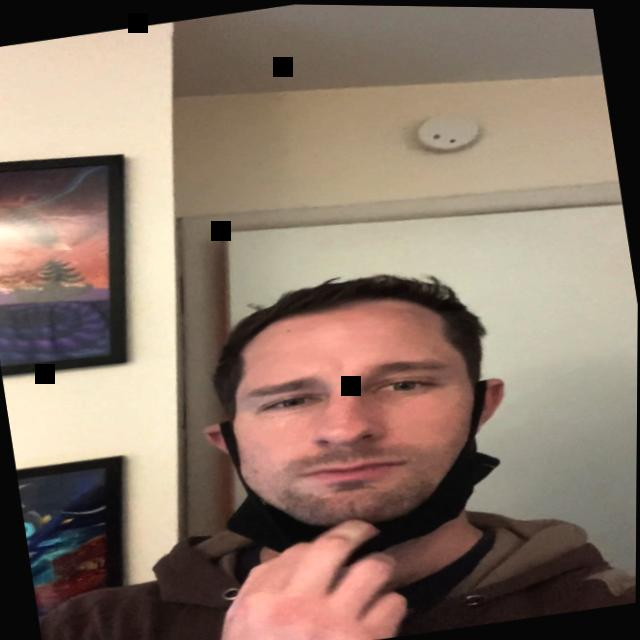NO-Mask: (190, 256, 523, 568)
